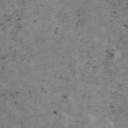oxide scale of temperature system: (2, 87, 68, 115), (0, 16, 36, 32), (92, 48, 114, 68), (112, 10, 128, 28), (0, 56, 6, 60), (54, 30, 58, 34), (76, 13, 80, 16)
